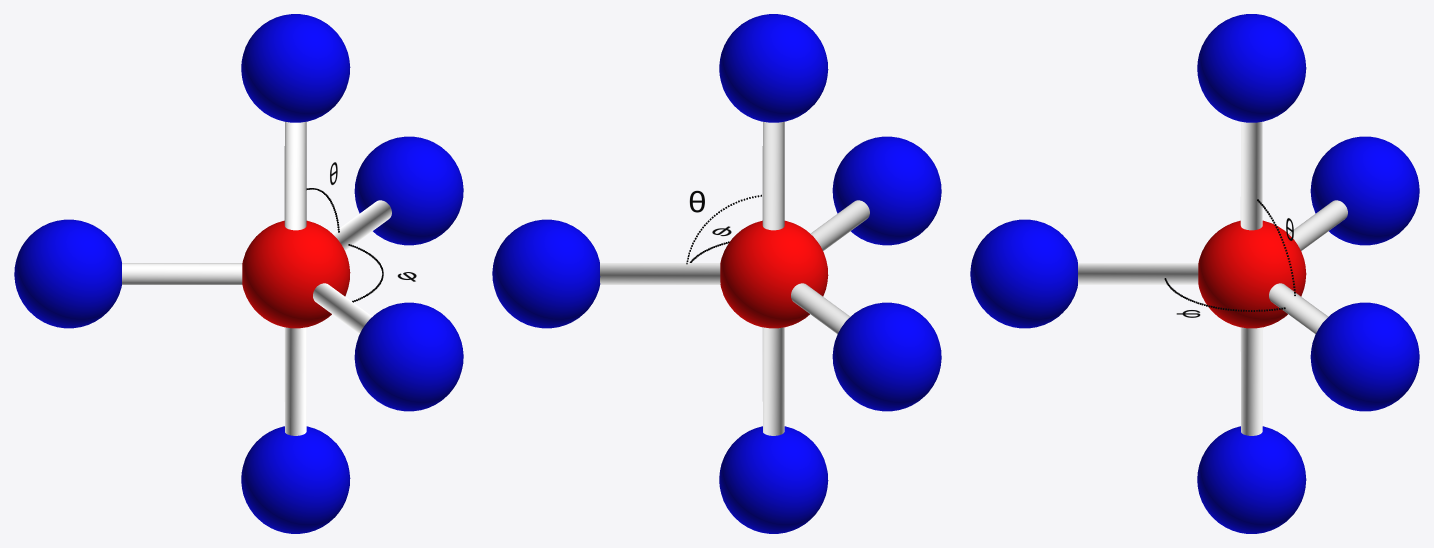
File: trigonal_bipyramidal.glb
3 views of the same model, side by side, from view 1: azimuth 30°, elevation 25°; view 2: azimuth 150°, elevation 25°; view 3: azimuth 270°, elevation 25° (orthographic).
Visible parts, largest first — view 1: 1 trigonal_bipyramidal; view 2: 1 trigonal_bipyramidal; view 3: 1 trigonal_bipyramidal.
Boxes of the visible parts, bbox=[...] form: 1 trigonal_bipyramidal: bbox=[14, 14, 463, 533]; 1 trigonal_bipyramidal: bbox=[492, 14, 941, 533]; 1 trigonal_bipyramidal: bbox=[970, 14, 1419, 533].
Bounding box in the file's own units: 3.45 × 3.87 × 3.09.
Materials: 7 (2 with a texture image).
